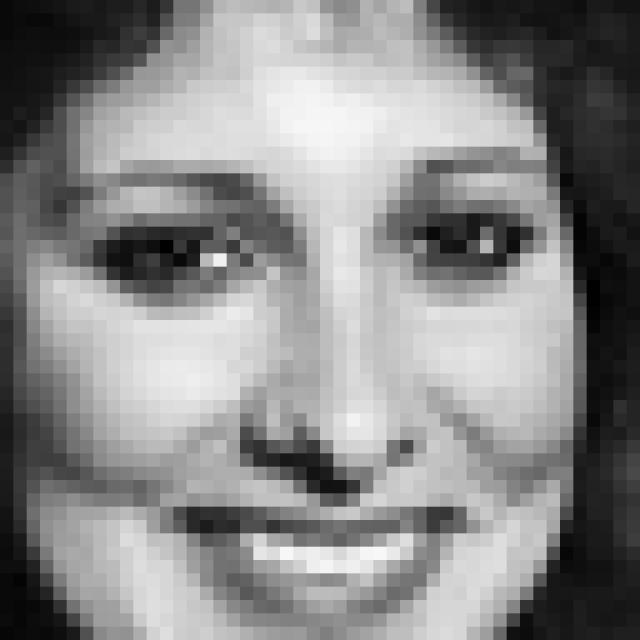happy: (35, 134, 558, 640)
